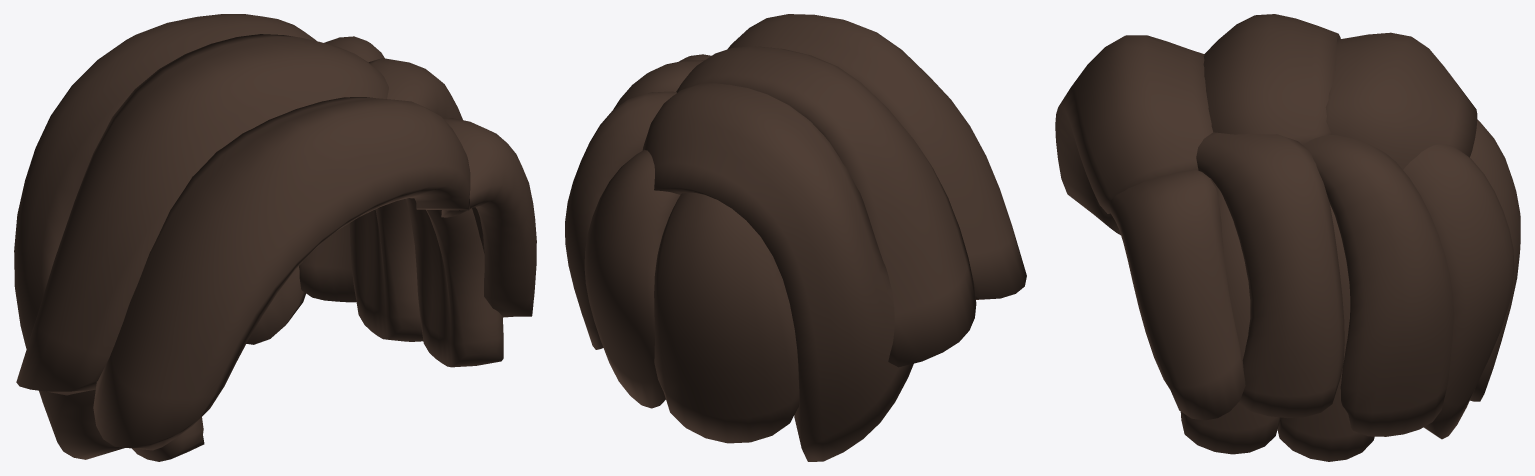
The model's file is hiar2.fbx.
3 views of the same model, side by side, from view 1: azimuth 30°, elevation 25°; view 2: azimuth 150°, elevation 25°; view 3: azimuth 270°, elevation 25° (orthographic). The views are drawn at different scales.
Visible parts, largest first — view 1: CH_HairBand08; view 2: CH_HairBand08; view 3: CH_HairBand08.
Boxes of the visible parts, left/top/right/bottom form: CH_HairBand08: left=14, top=14, right=536, bottom=461; CH_HairBand08: left=565, top=14, right=1026, bottom=461; CH_HairBand08: left=1055, top=14, right=1520, bottom=461.
Bounding box in the file's own units: 58.5 × 51.38 × 53.46.
